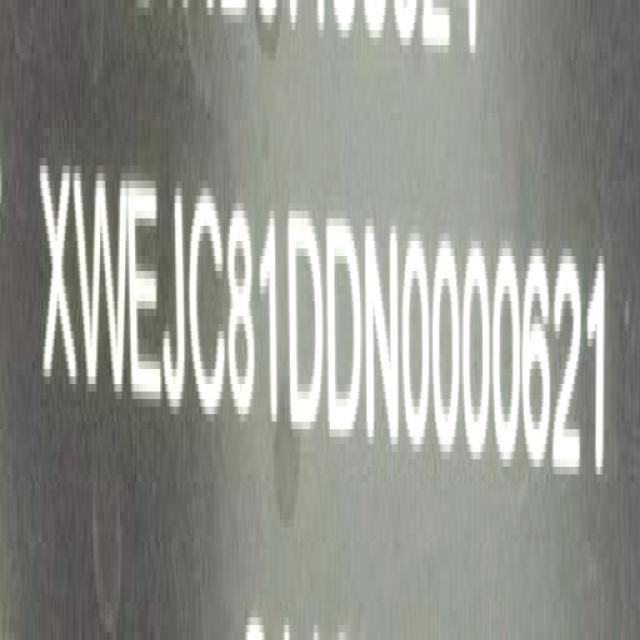0: (404, 224, 434, 459), (432, 232, 462, 460), (493, 242, 523, 469), (461, 236, 489, 464)
1: (260, 201, 284, 431), (591, 262, 612, 489)
2: (554, 256, 585, 484)
6: (523, 248, 552, 478)
8: (226, 202, 256, 431)
C: (189, 188, 228, 425)
D: (290, 204, 326, 445), (328, 210, 362, 450)
E: (131, 170, 164, 417)
J: (162, 177, 188, 422)
N: (368, 213, 405, 457)
W: (76, 157, 130, 414)
X: (36, 149, 74, 407)
